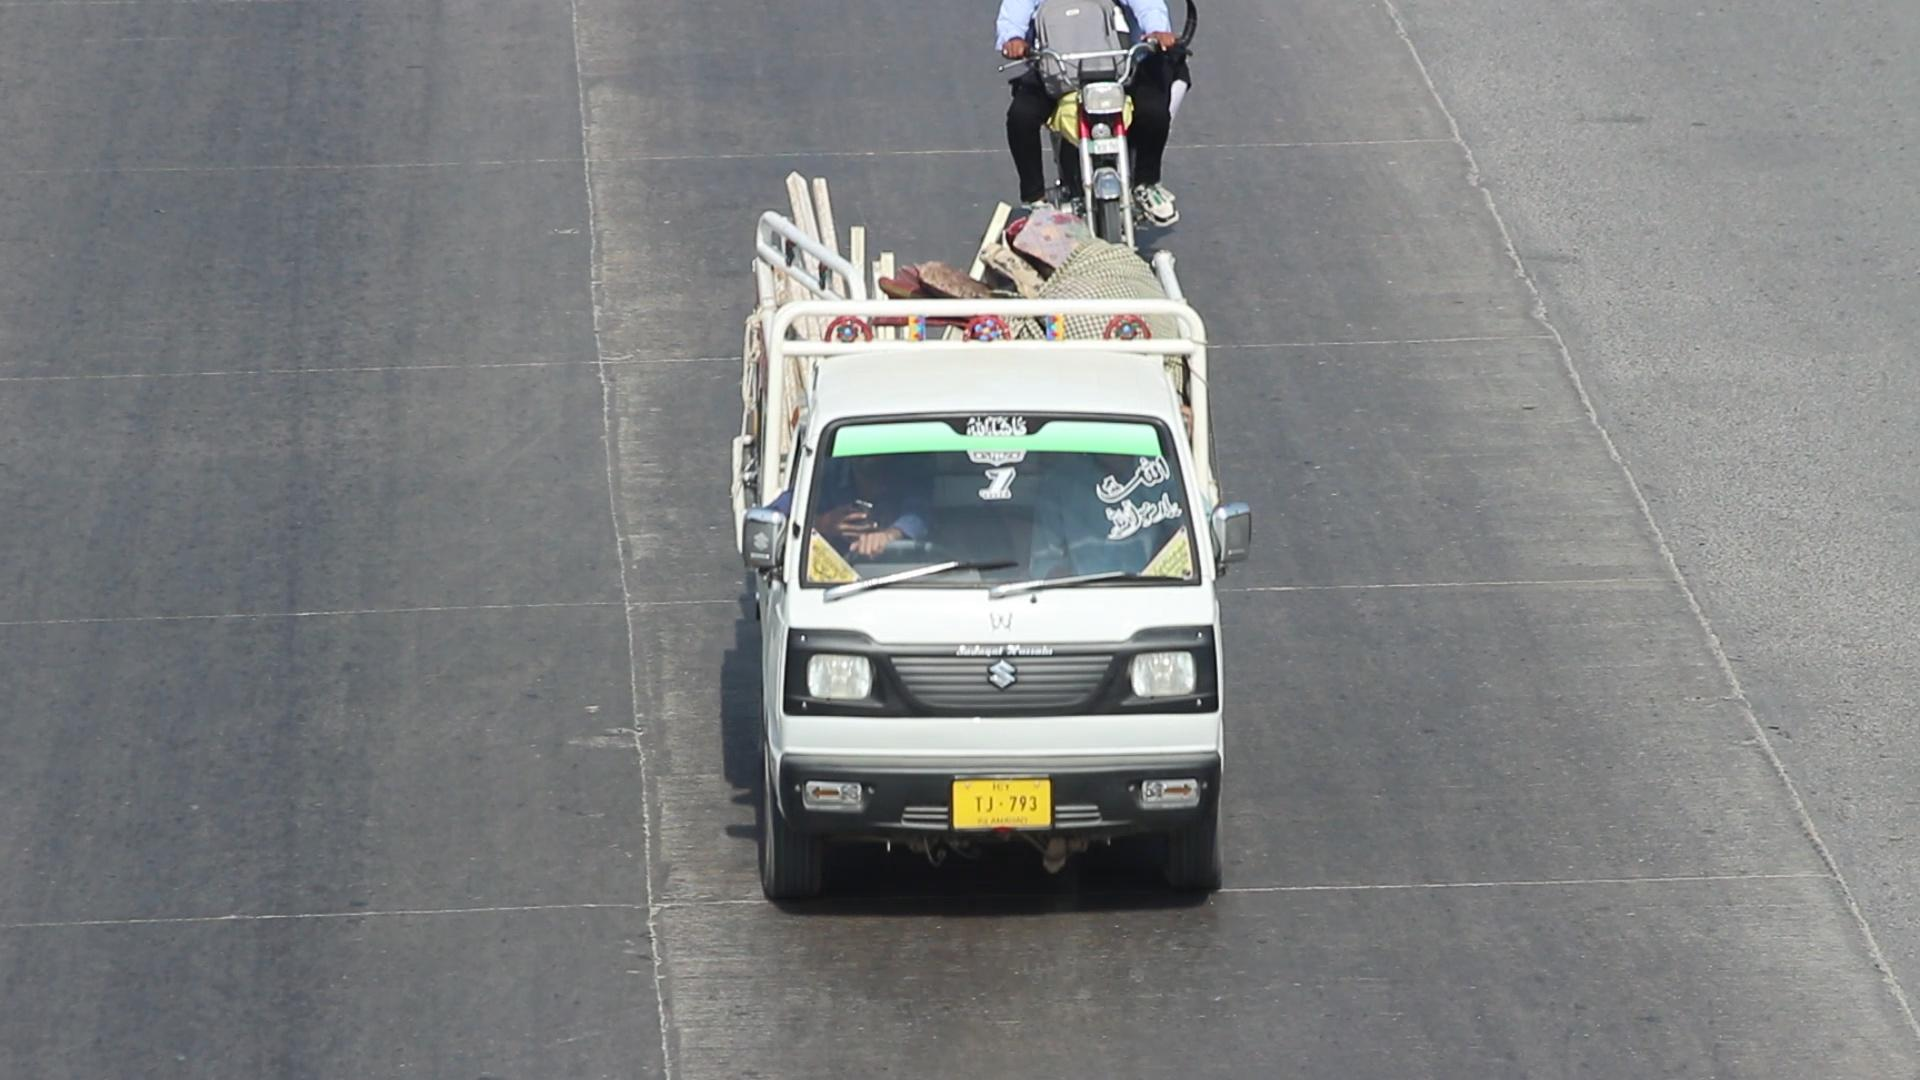windshield: (787, 400, 1207, 604)
